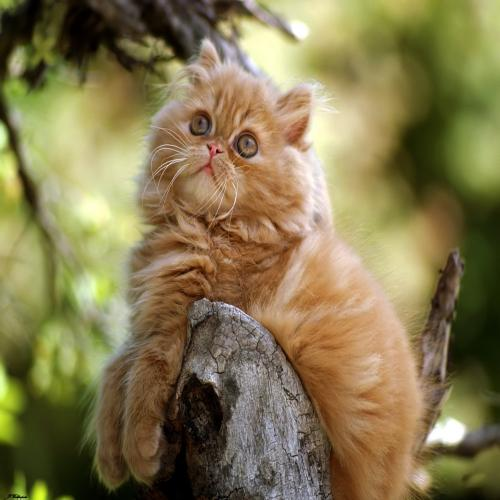persian: (139, 36, 320, 242)
